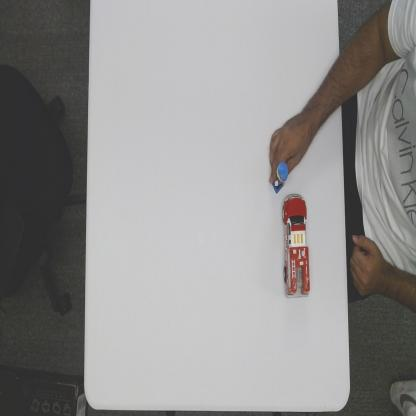Arm: (307, 58, 344, 146)
Firetruck: (282, 190, 310, 298)
Hand: (268, 114, 310, 185)
